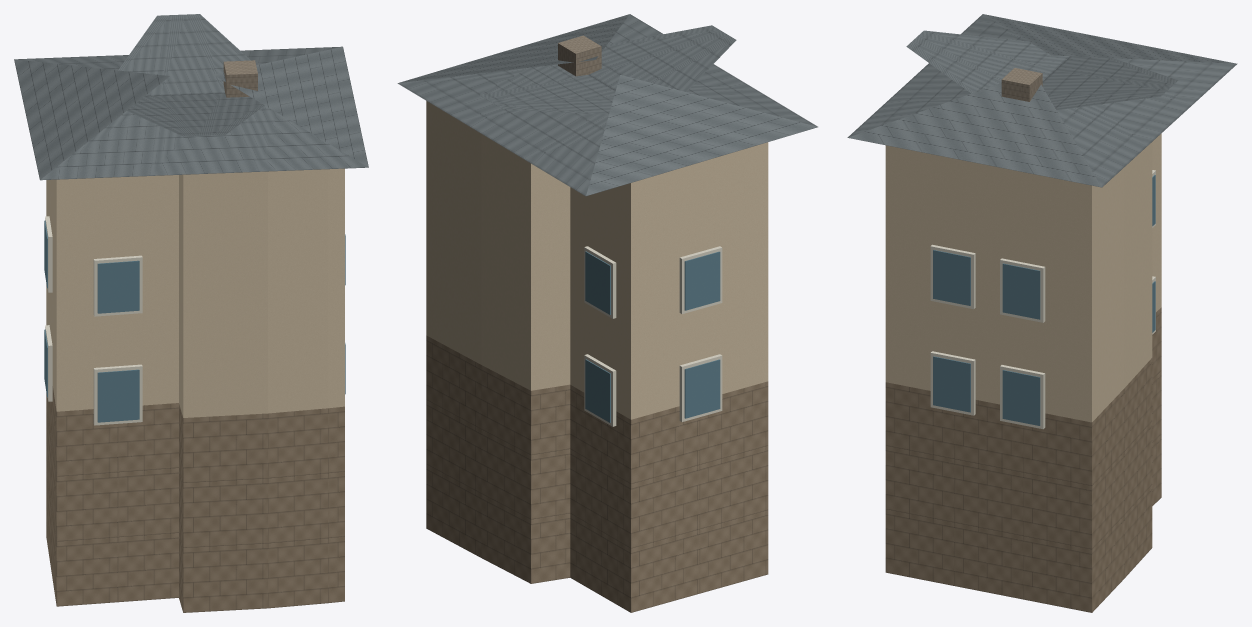
File: core_0055.gltf
3 views of the same model, side by side, from view 1: azimuth 30°, elevation 25°; view 2: azimuth 150°, elevation 25°; view 3: azimuth 270°, elevation 25° (orthographic). The views are drawn at different scales.
Parts seen in each view (by area): view 1: core_0055; view 2: core_0055; view 3: core_0055.
Part boxes in pixels (x1,y1,x2,y2): core_0055: [14, 14, 368, 612]; core_0055: [397, 14, 817, 612]; core_0055: [847, 14, 1237, 612].
Bounding box in the file's own units: 9.97 × 12.85 × 9.47.
6 materials, 6 textured.
